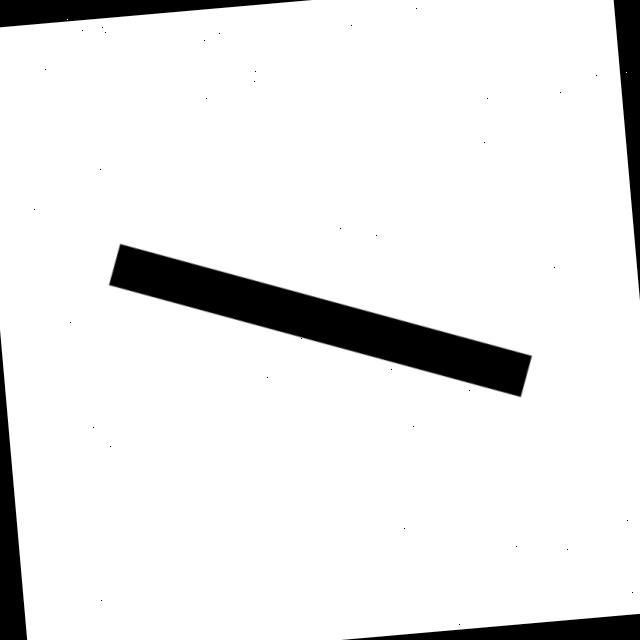line: (108, 243, 531, 397)
